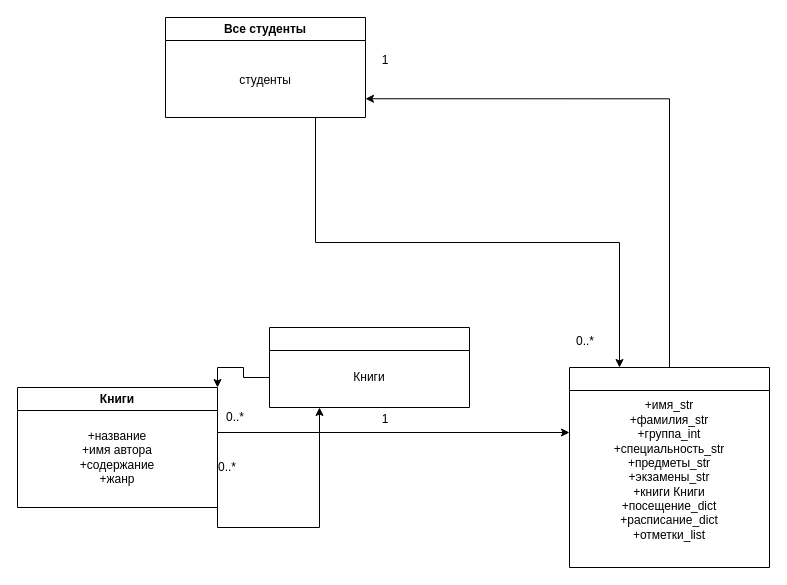
Image size: 787x585. Some labels were removed from this diagram. Here are the shapes that lost their labels. From the top down, the box of each, then its label:
(268, 326, 470, 408): Библиотека
(568, 366, 770, 568): Студент
